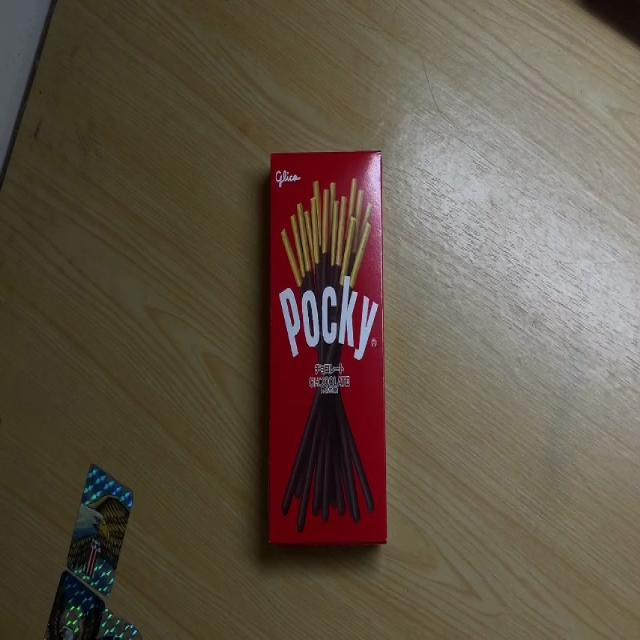Pocky: (268, 155, 386, 549)
